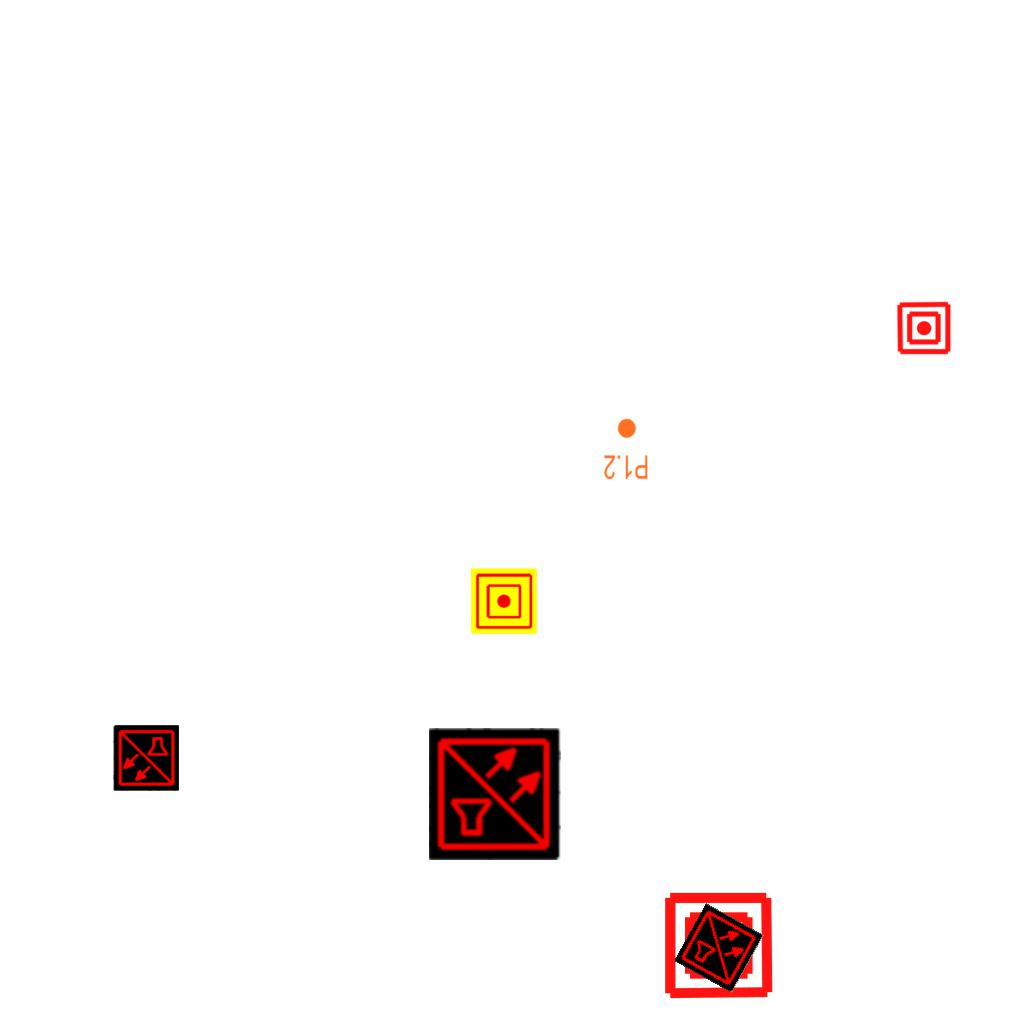Downlight_LED_Einbauleuchten_Flur: (603, 417, 649, 481)
NAM-Nichtautomatischer_Melder: (662, 889, 775, 1002), (471, 568, 537, 634), (896, 300, 952, 356)
OKW_Multisensormelder_(Kombination_optischer_Rauch-Kahlenmonoxid_Waerme-Melder): (429, 728, 561, 860), (674, 903, 764, 993), (113, 725, 179, 791)
